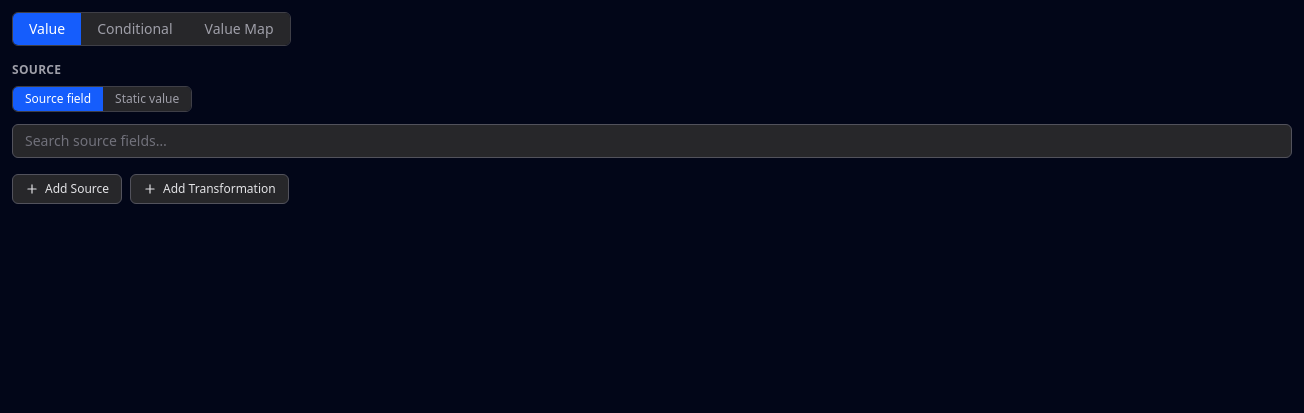
Test: T-09 — Source Card builder area › does not render source-card-builder in conditional mode
Click the tab with test id "mode-tab-conditional". click: (135, 29)
box: top-left (81, 13), bottom-right (189, 45)
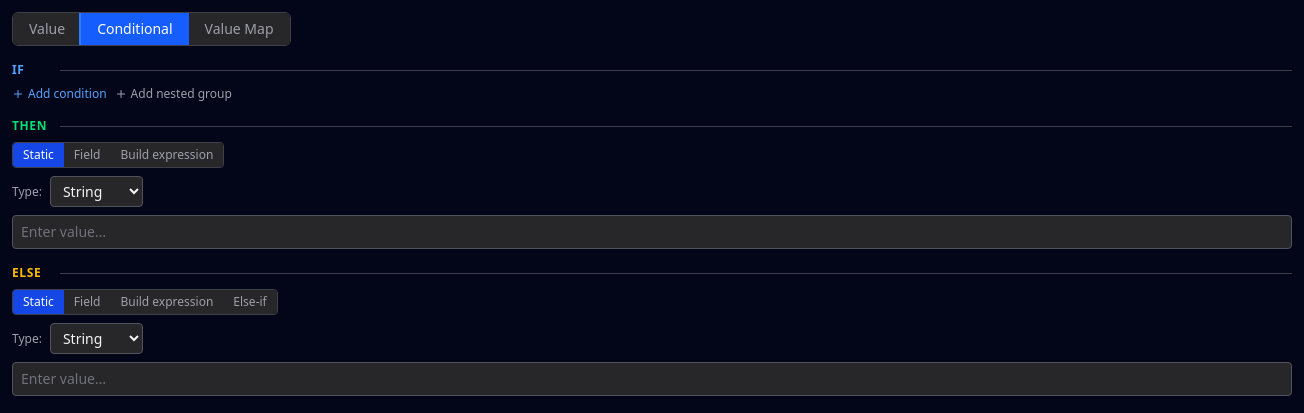
Now the element with test id "source-card-builder" is gone
